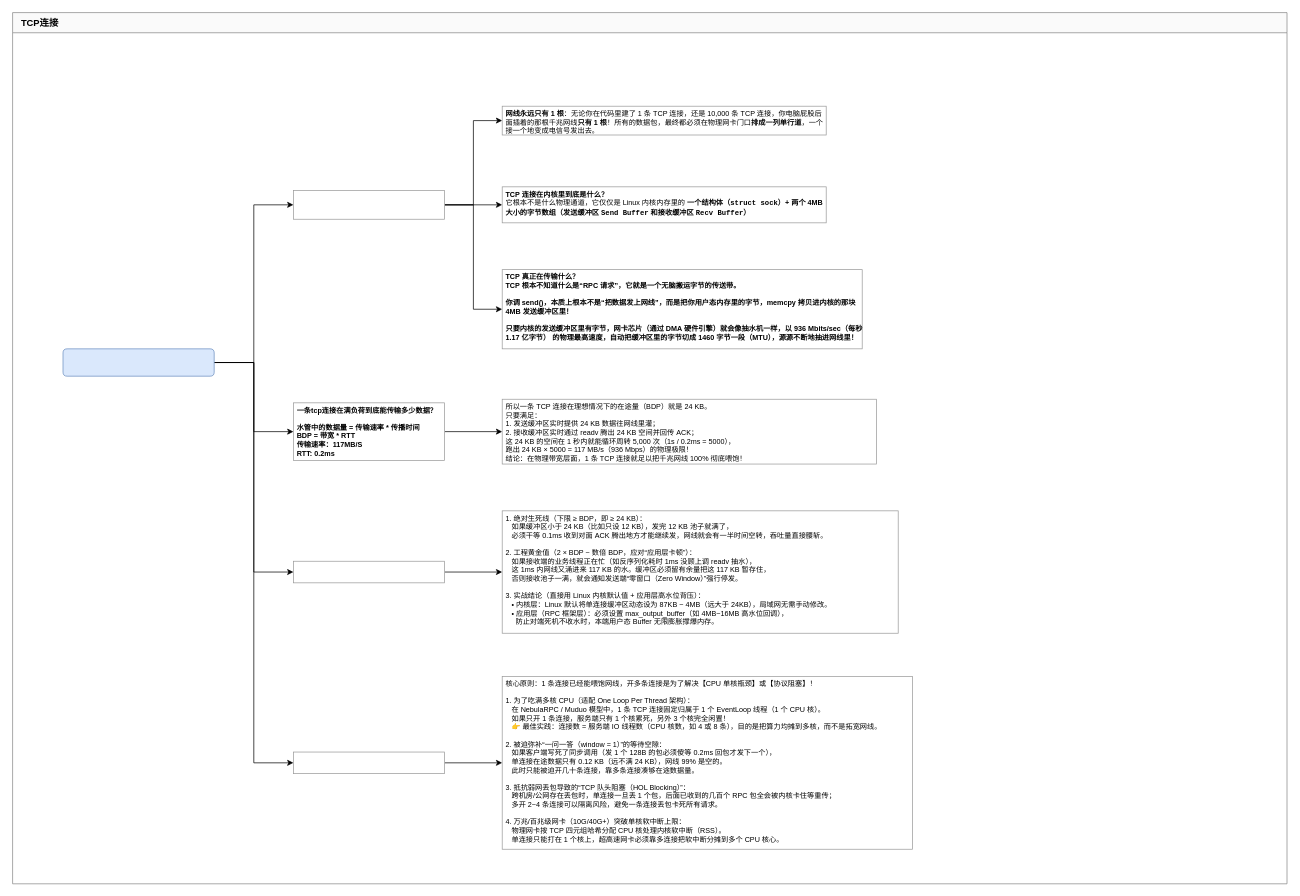
Some shapes in this 1300 by 896 pixel diagram are drawn without their labels. Here are the shapes that lost their labels. From the top down, the centre of each, then its label:
the point at 369,204: 什么是一条tcp连接？它在传什么？
the point at 138,362: TCP连接在物理网线和内核内存扮演的角色
the point at 369,572: 接受缓冲区和发送缓冲区大小设置多少合适？
the point at 369,762: 什么时候才能用得到多条tcp连接？
